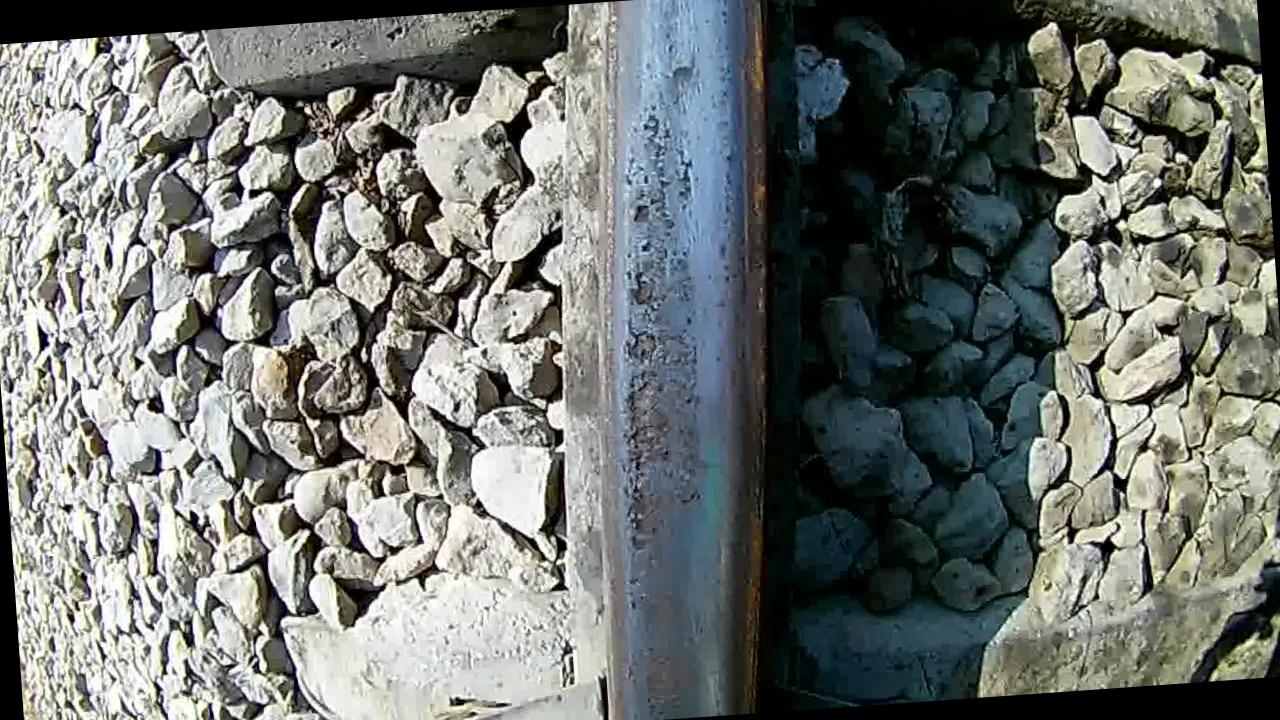crack: (579, 0, 793, 720)
